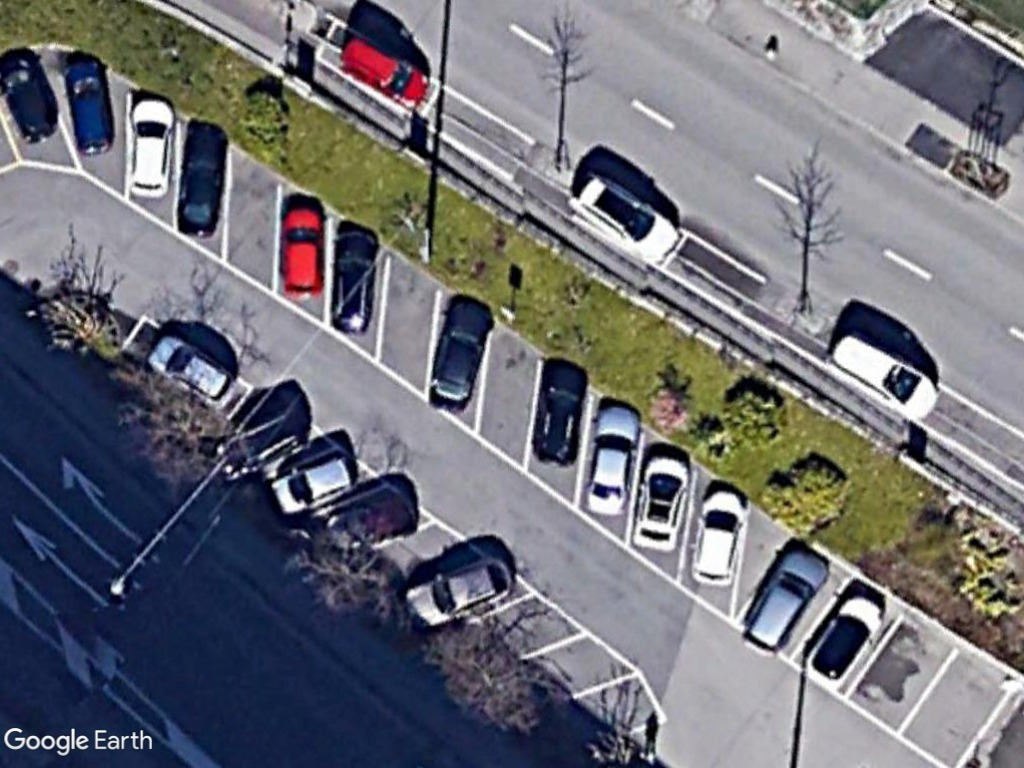car: (566, 169, 680, 268), (736, 548, 830, 655), (400, 551, 517, 633), (804, 591, 885, 692), (422, 300, 495, 412), (335, 31, 433, 109), (144, 331, 240, 408), (584, 400, 645, 515), (629, 454, 695, 556), (533, 354, 591, 470), (686, 484, 749, 589), (265, 451, 362, 518), (174, 123, 228, 241), (1, 43, 57, 144), (331, 224, 381, 333), (63, 56, 114, 158), (128, 92, 177, 198), (278, 200, 323, 297)
van: (826, 330, 941, 425)
